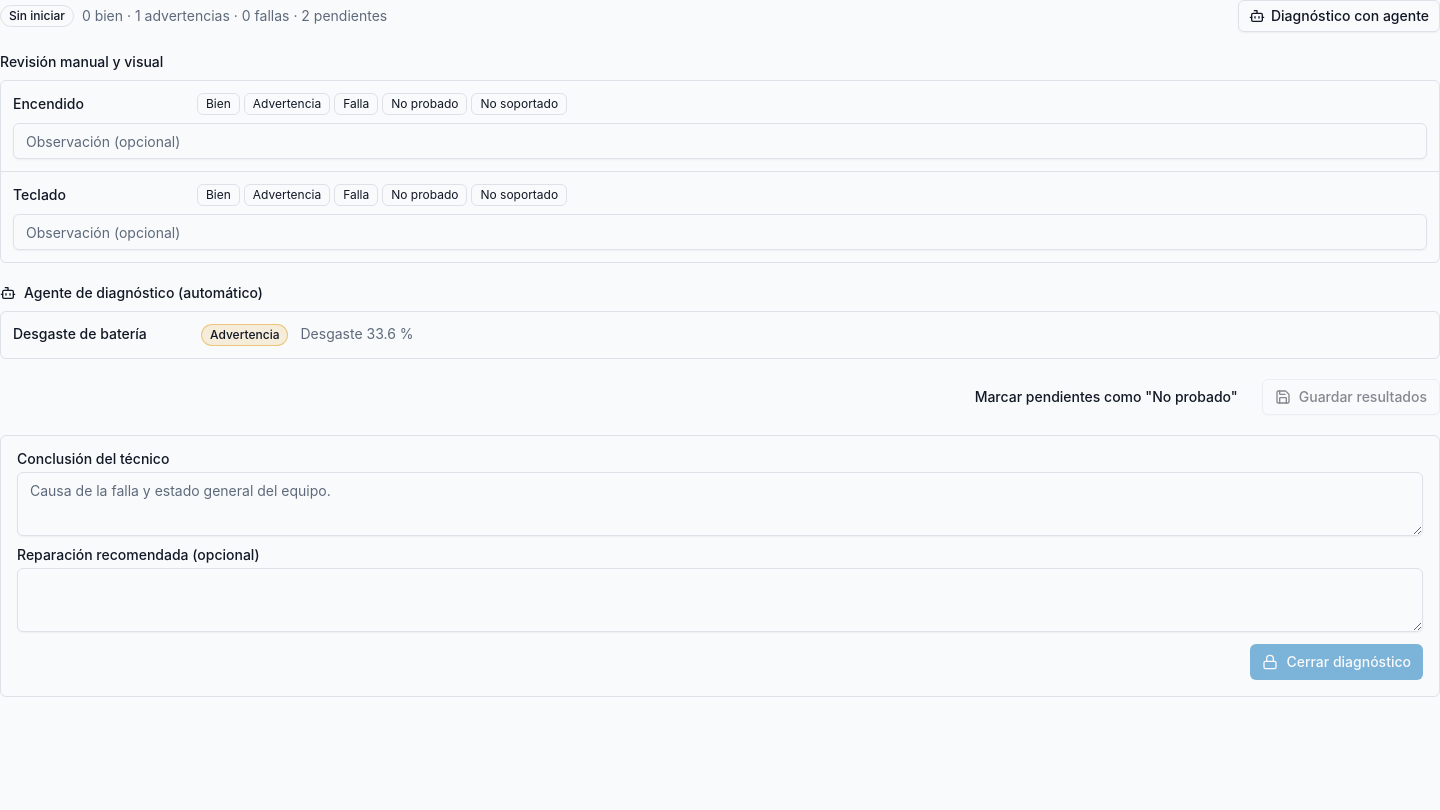
Test: DiagnosticPanel › generates a one-time code for the agent
Click the button "Diagnóstico con agente". click: (1339, 16)
box: top-left (1238, 0), bottom-right (1439, 32)
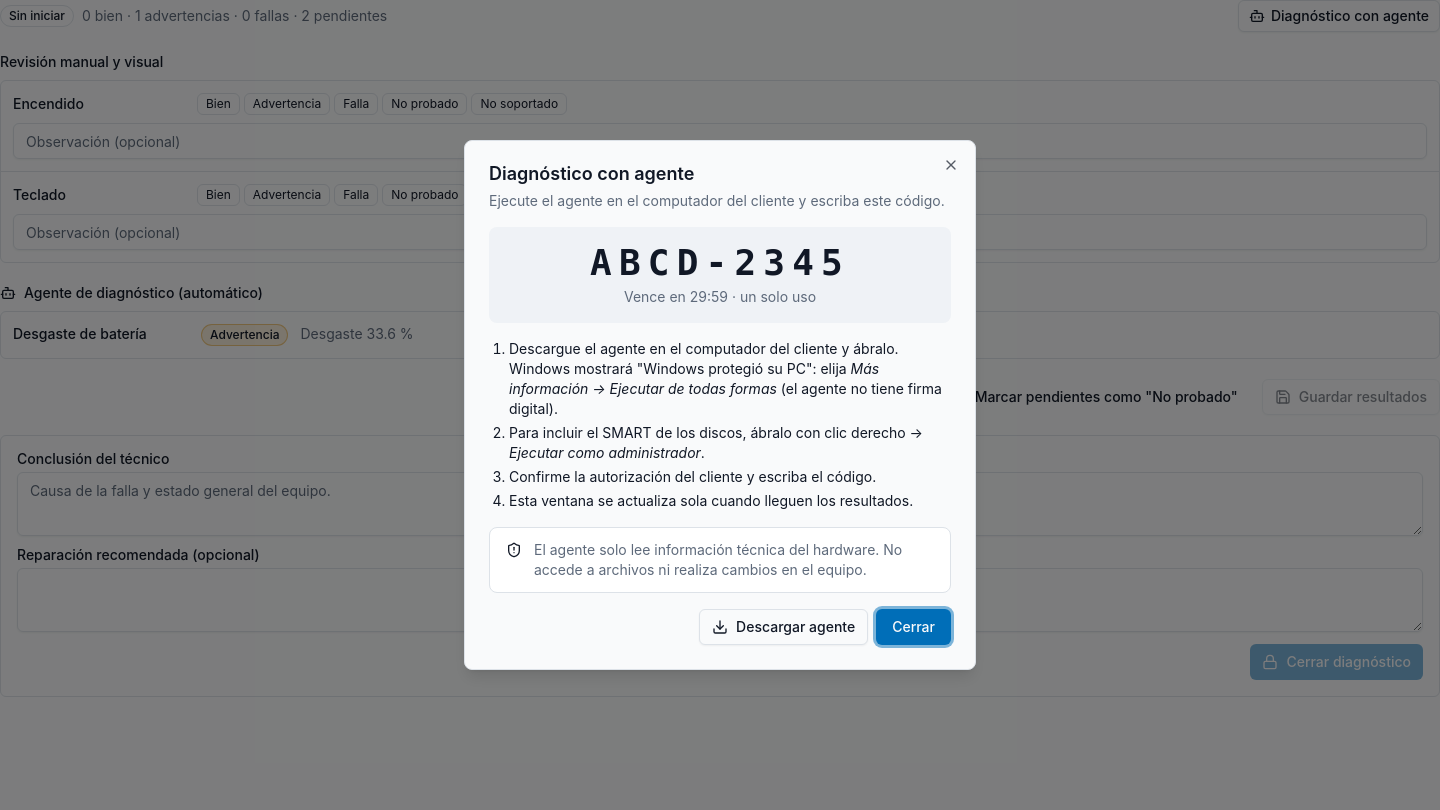
expect the text "ABCD-2345" is shown: met, box top-left (590, 242), bottom-right (850, 283)
